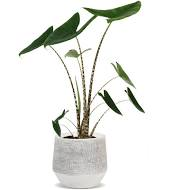plant: (19, 1, 147, 190)
